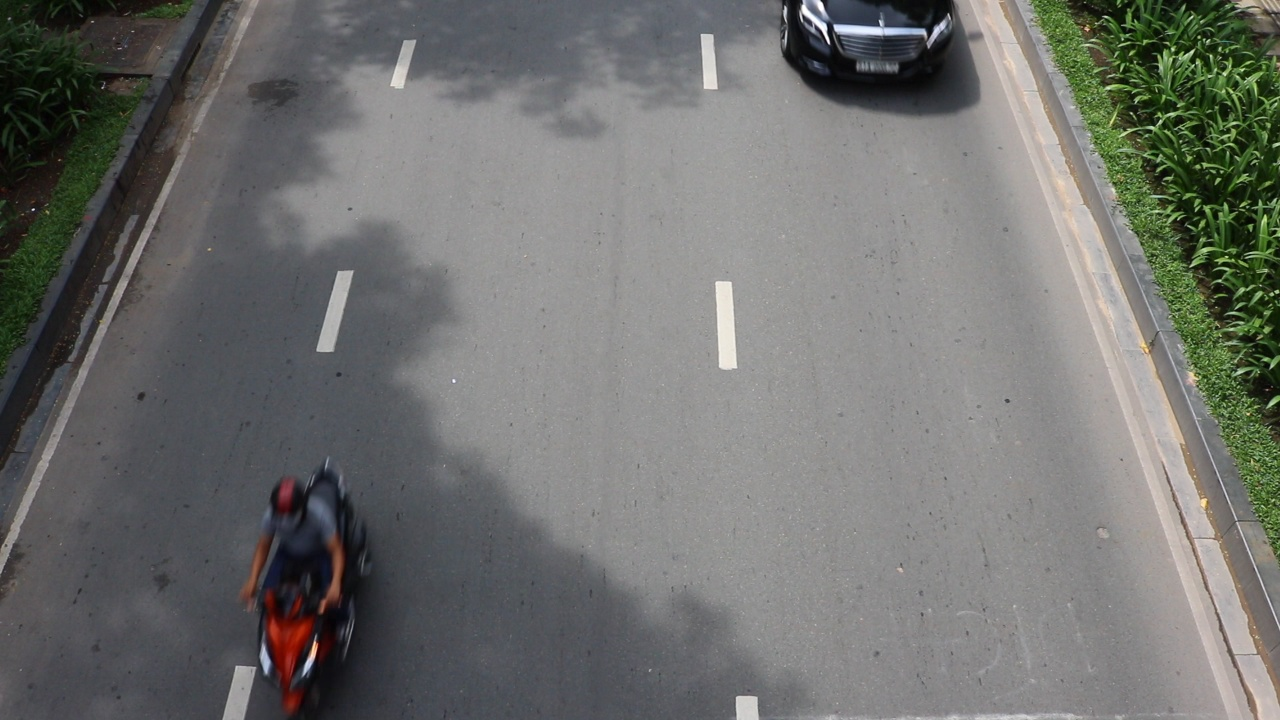car: (778, 0, 958, 85)
motorcycle: (250, 561, 348, 716)
